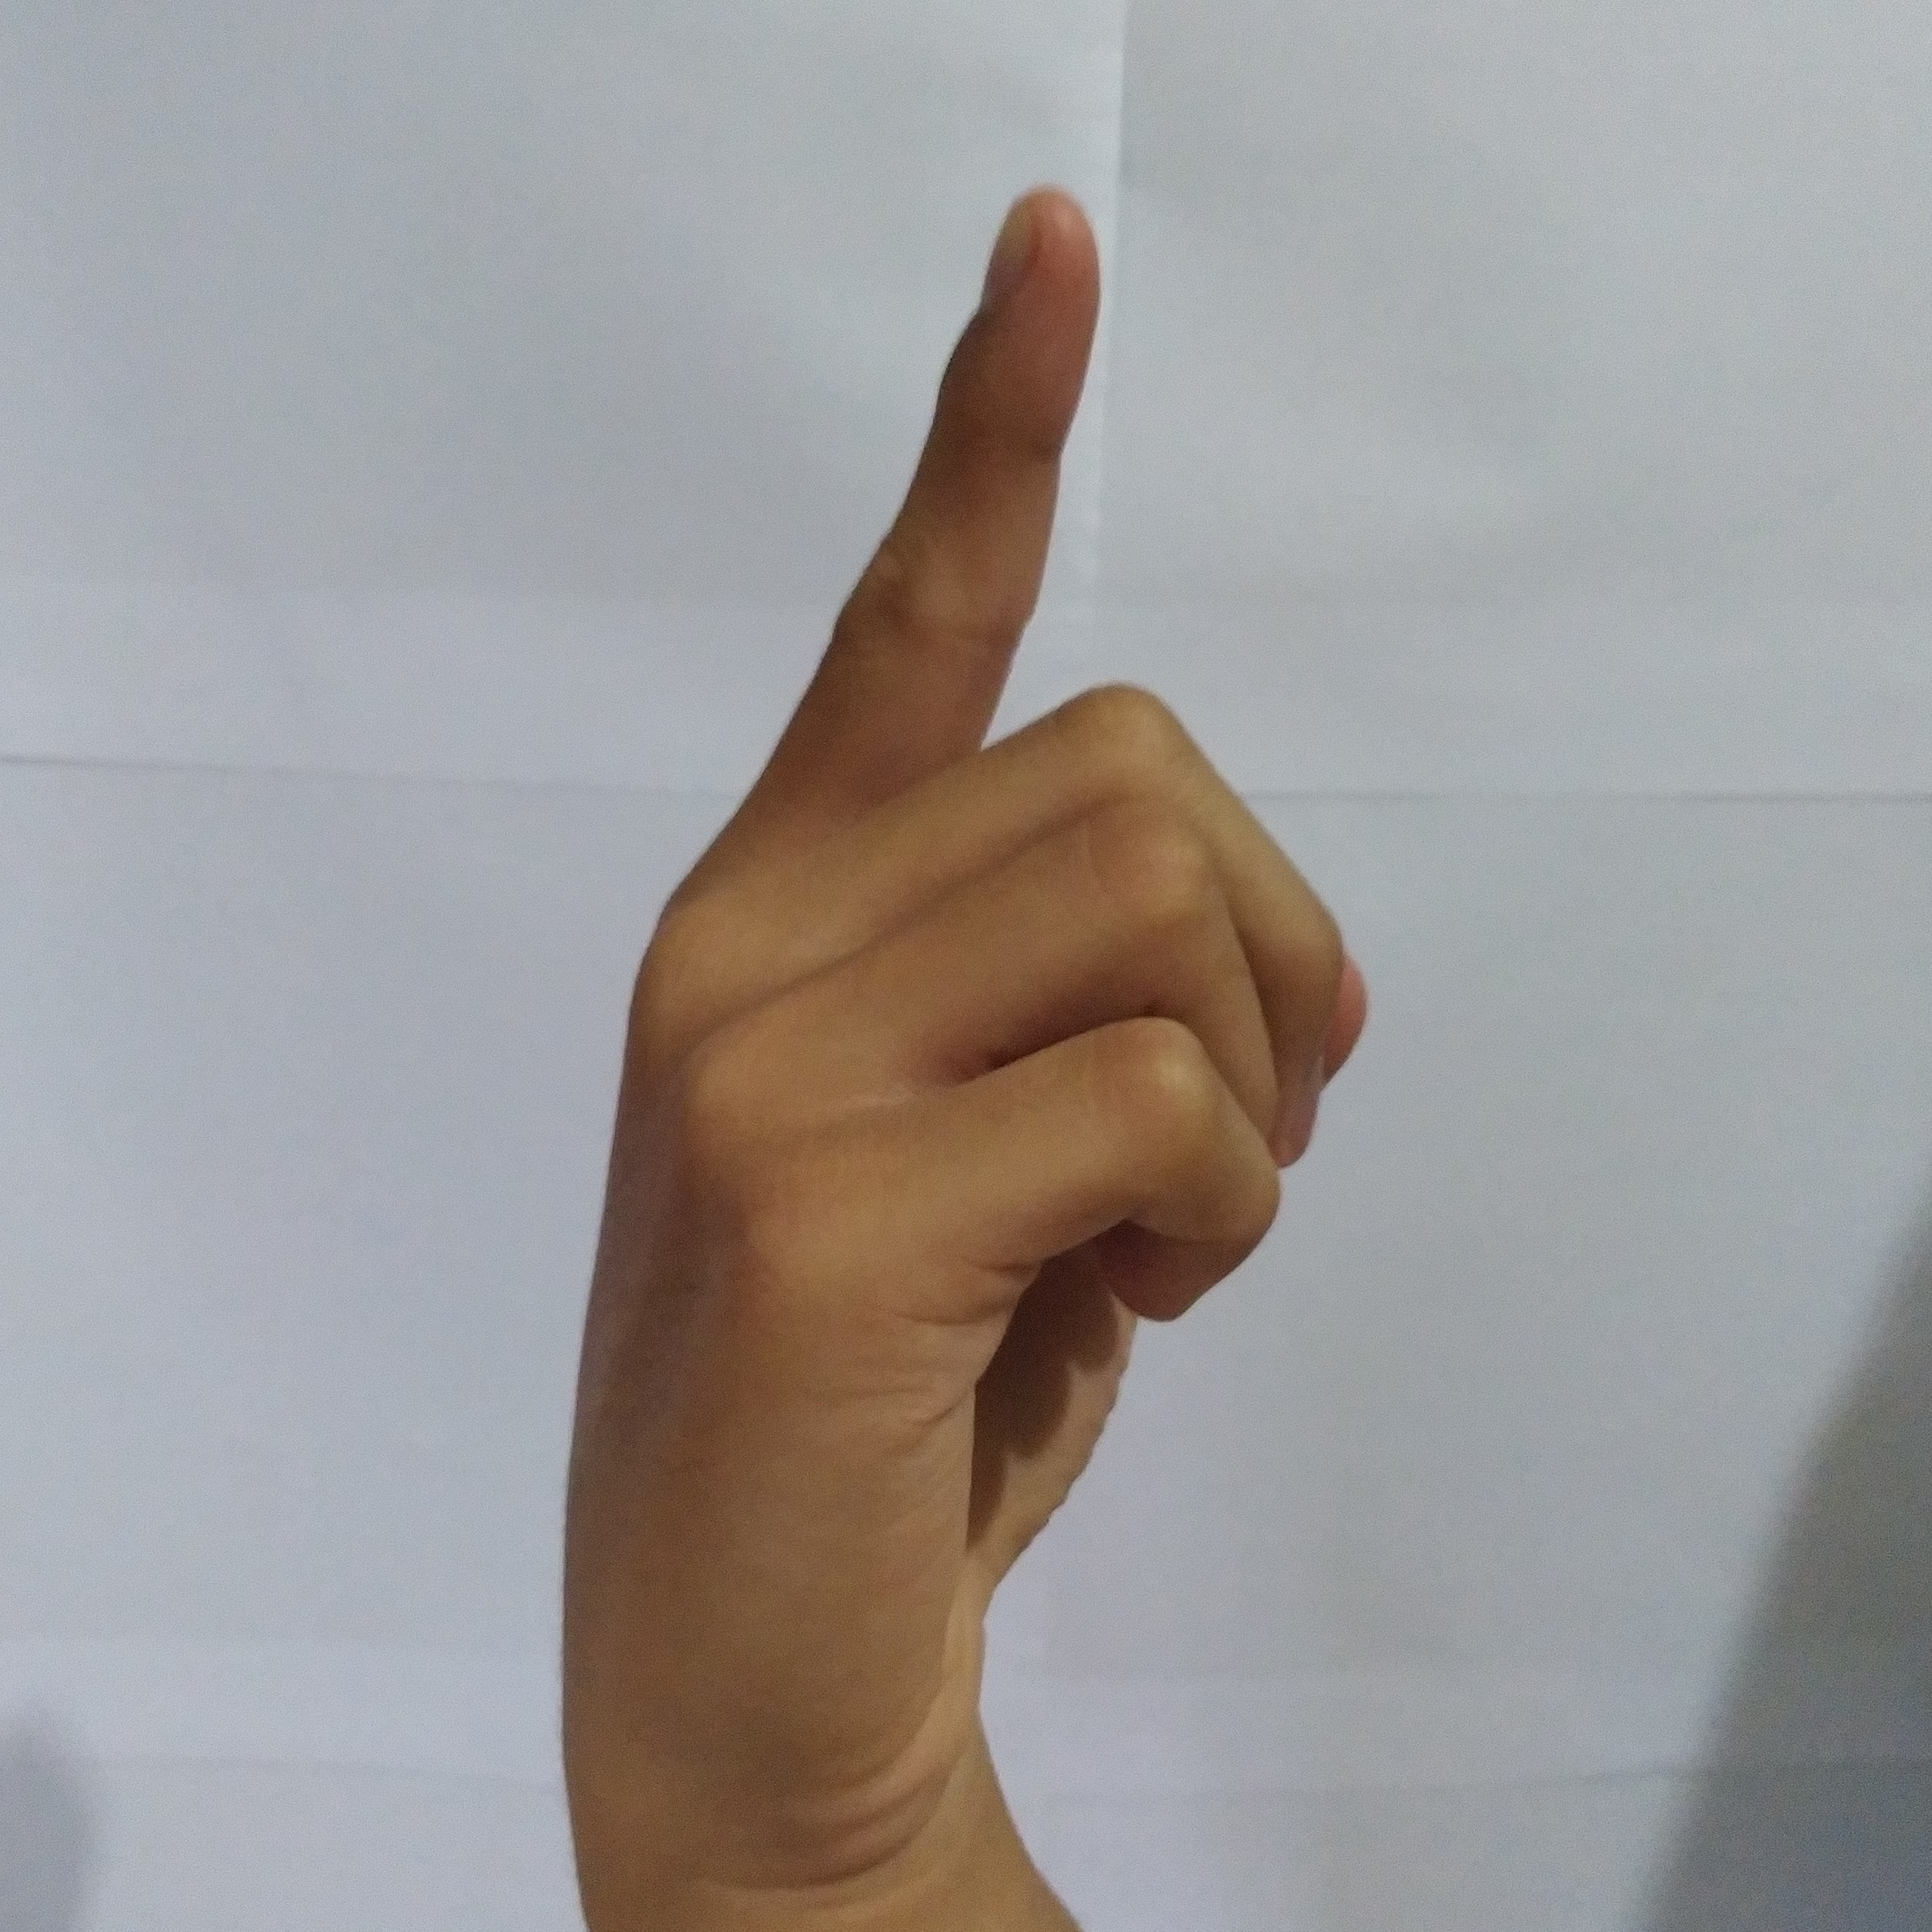D: (547, 157, 1387, 1704)
